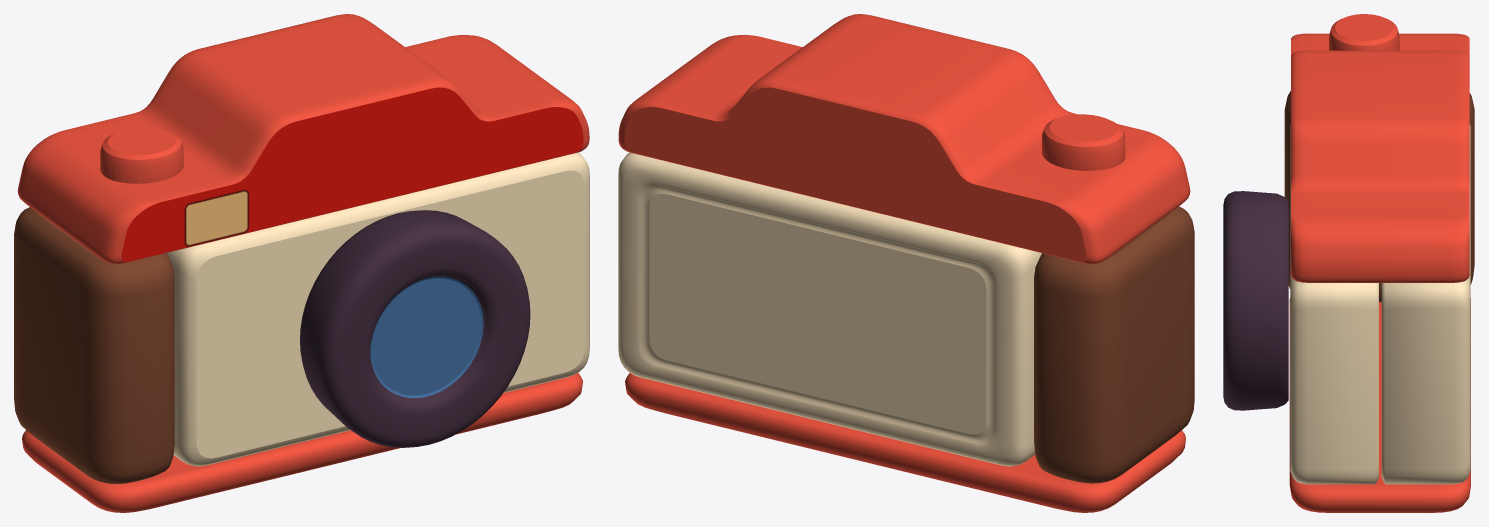
File: RetroFilmCamera.glb
The picture shows the model from 3 angles, left to right: view 1: azimuth 30°, elevation 25°; view 2: azimuth 150°, elevation 25°; view 3: azimuth 270°, elevation 25°; orthographic projection. The views are drawn at different scales.
Parts seen in each view (by area): view 1: Part_004_TopHousing, Part_001_FrontPanel, Part_003_Lens, Part_005_Grip, Part_000_Base; view 2: Part_002_BackPanel, Part_004_TopHousing, Part_005_Grip, Part_000_Base; view 3: Part_004_TopHousing, Part_002_BackPanel, Part_001_FrontPanel, Part_003_Lens, Part_000_Base, Part_005_Grip.
Boxes of the visible parts, <box> form: Part_004_TopHousing: <box>17,14,589,264</box>; Part_001_FrontPanel: <box>166,152,589,466</box>; Part_003_Lens: <box>300,210,530,447</box>; Part_005_Grip: <box>14,207,174,484</box>; Part_000_Base: <box>22,373,582,512</box>; Part_002_BackPanel: <box>618,152,1041,466</box>; Part_004_TopHousing: <box>618,14,1190,264</box>; Part_005_Grip: <box>1034,206,1194,483</box>; Part_000_Base: <box>625,373,1185,512</box>; Part_004_TopHousing: <box>1291,14,1469,282</box>; Part_002_BackPanel: <box>1381,124,1470,484</box>; Part_001_FrontPanel: <box>1290,125,1378,484</box>; Part_003_Lens: <box>1223,191,1288,410</box>; Part_000_Base: <box>1289,298,1470,512</box>; Part_005_Grip: <box>1284,91,1474,302</box>.
Size of the model in its own units: 10.36 by 7.28 by 4.99.
6 materials, 1 textured.
